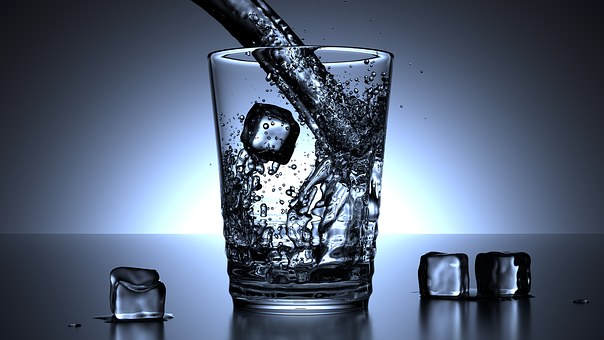glass of water: (223, 50, 377, 304)
